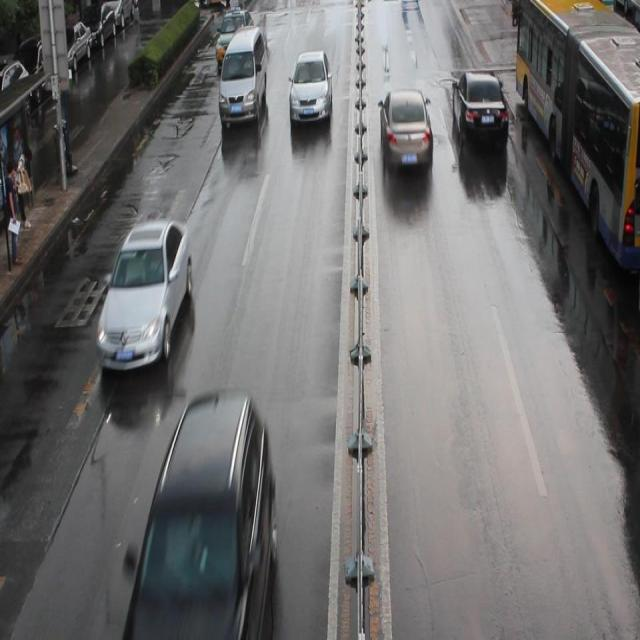car: (126, 393, 278, 640), (94, 217, 191, 373), (378, 86, 434, 168), (452, 66, 508, 141), (288, 52, 332, 123), (216, 1, 254, 64)
truck: (217, 27, 267, 125)
van: (515, 1, 640, 269)
